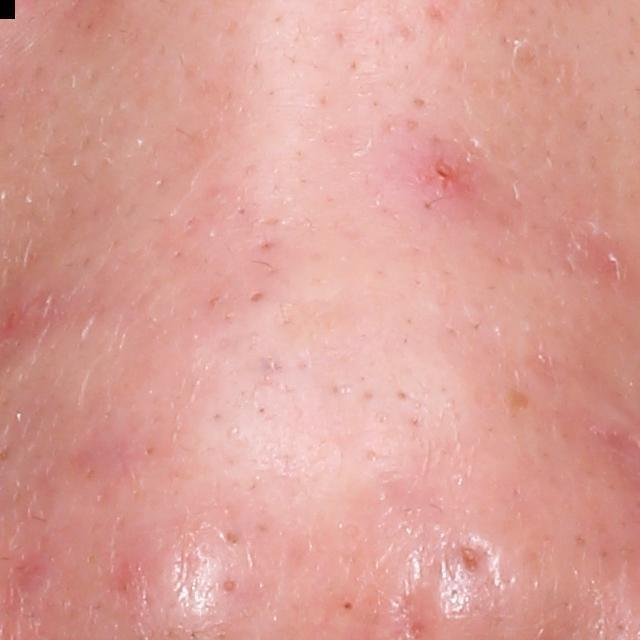atrophic_scar: (454, 536, 491, 582)
comedo: (244, 289, 269, 310), (222, 577, 239, 593)
